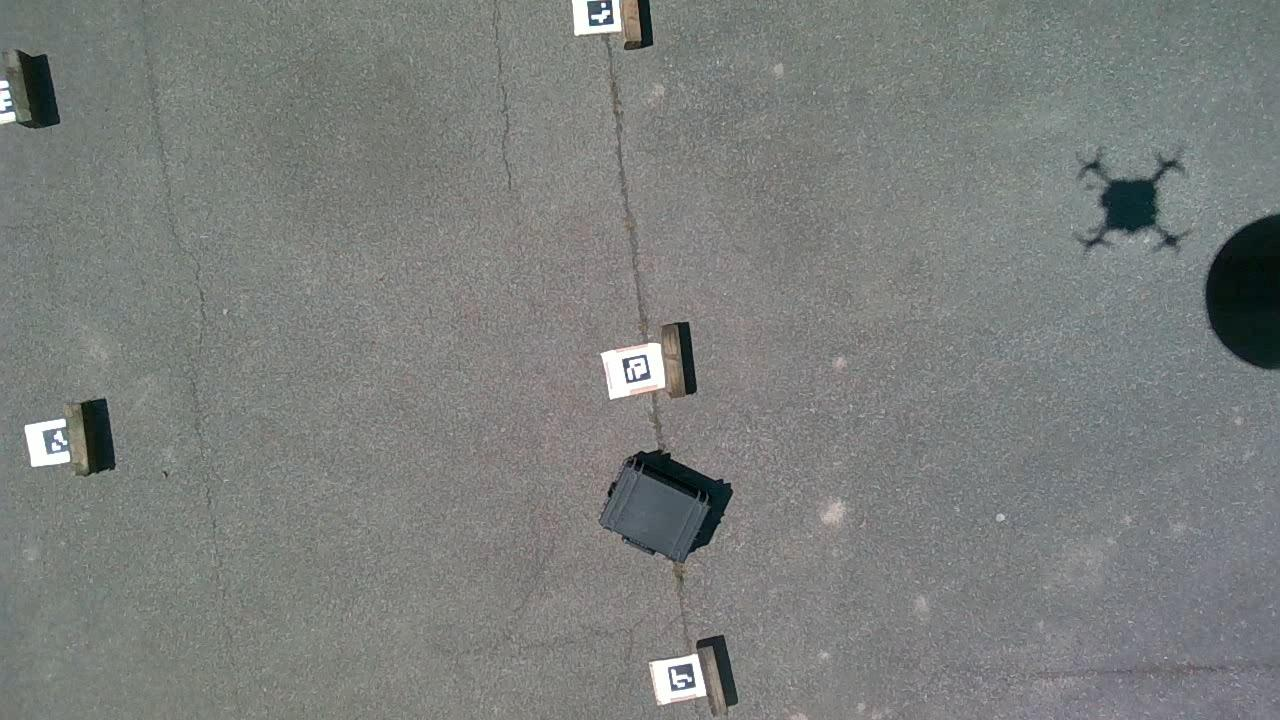rako: (599, 452, 732, 562)
